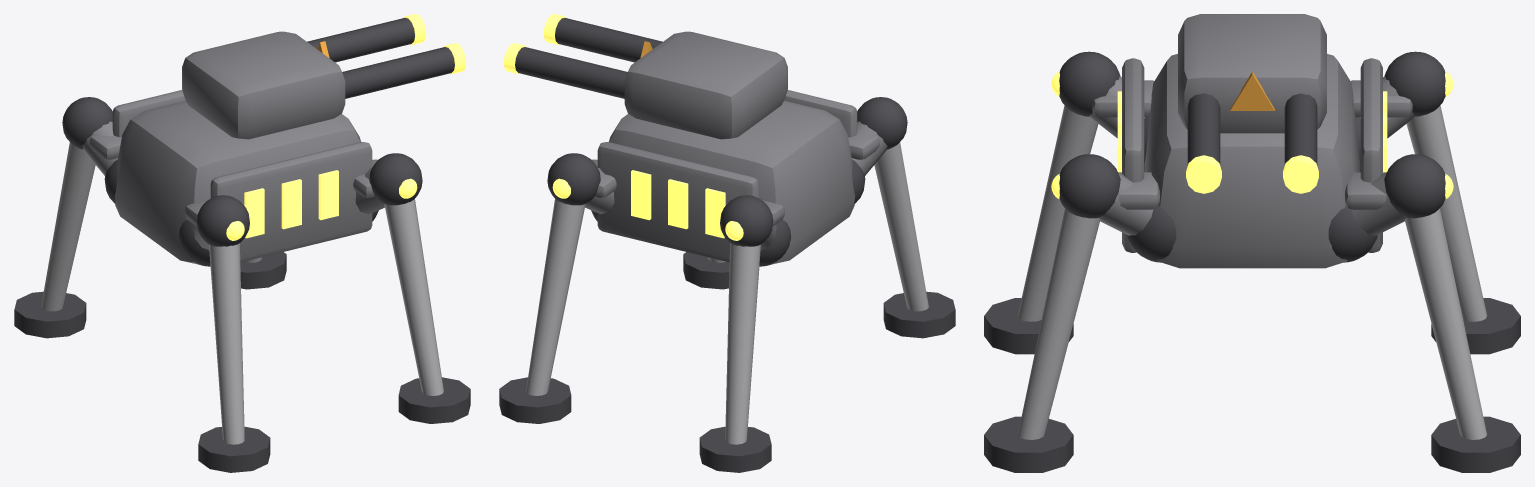
The model's file is rob_mg.glb.
3 renders of one model, left to right at view 1: azimuth 30°, elevation 25°; view 2: azimuth 150°, elevation 25°; view 3: azimuth 270°, elevation 25°, orthographic. The views are drawn at different scales.
Parts seen in each view (by area): view 1: rob_mg, turret_m, limb_r1_m, limb_r0_m, limb_l1_m, limb_l0_m; view 2: rob_mg, turret_m, limb_l1_m, limb_l0_m, limb_r1_m, limb_r0_m; view 3: rob_mg, turret_m, limb_l0_m, limb_r0_m, limb_l1_m, limb_r1_m.
Part boxes in pixels (x1,y1,x2,y2): rob_mg: (112, 90, 372, 264); turret_m: (182, 14, 466, 139); limb_r1_m: (178, 195, 270, 472); limb_r0_m: (353, 153, 470, 423); limb_l1_m: (14, 97, 121, 338); limb_l0_m: (240, 252, 286, 289); rob_mg: (597, 90, 857, 264); turret_m: (503, 14, 787, 139); limb_l1_m: (699, 195, 791, 472); limb_l0_m: (499, 153, 616, 423); limb_r1_m: (848, 97, 955, 338); limb_r0_m: (683, 252, 729, 289); rob_mg: (1117, 54, 1387, 268); turret_m: (1178, 14, 1326, 193); limb_l0_m: (1328, 154, 1520, 472); limb_r0_m: (984, 154, 1176, 472); limb_l1_m: (1350, 51, 1520, 354); limb_r1_m: (984, 51, 1154, 354).
Size of the model in its own units: 0.6156 by 0.548 by 0.72.
